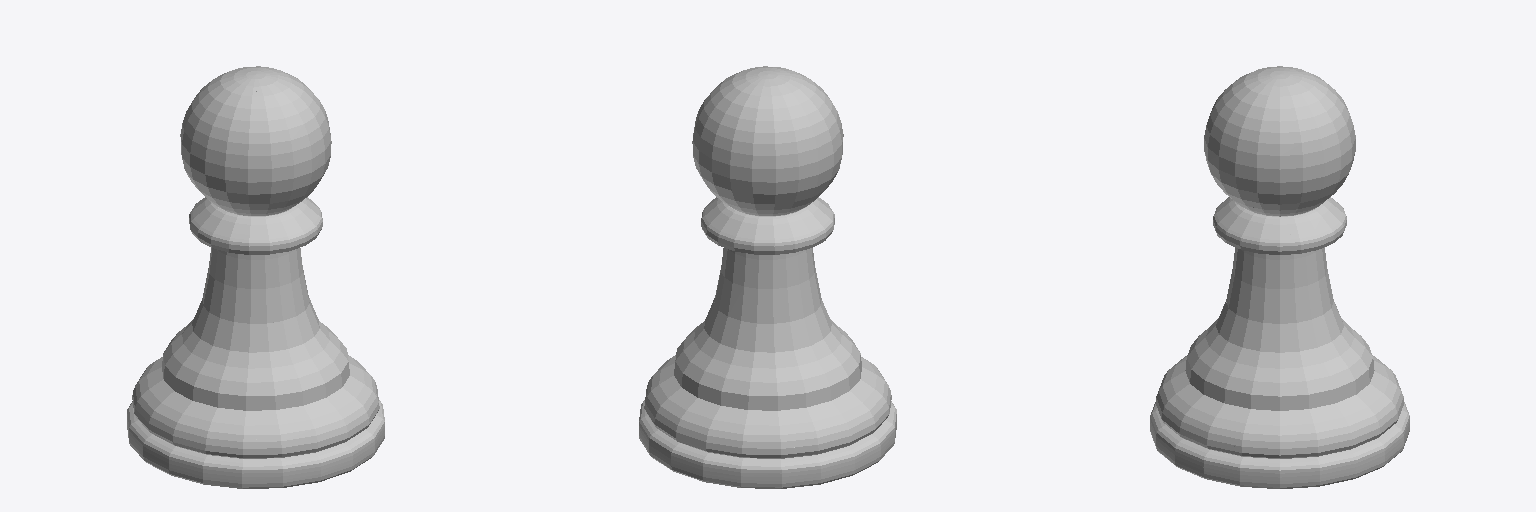
Rendered from pawn_w_3.obj.
3 views of the same model, side by side, from view 1: azimuth 30°, elevation 25°; view 2: azimuth 150°, elevation 25°; view 3: azimuth 270°, elevation 25° (orthographic).
Visible parts, largest first — view 1: pawn_w_3; view 2: pawn_w_3; view 3: pawn_w_3.
Boxes of the visible parts, <box> form: pawn_w_3: <box>127,66,384,488</box>; pawn_w_3: <box>639,66,896,488</box>; pawn_w_3: <box>1150,66,1409,488</box>.
Bounding box in the file's own units: 2.73 × 4.2 × 2.73.